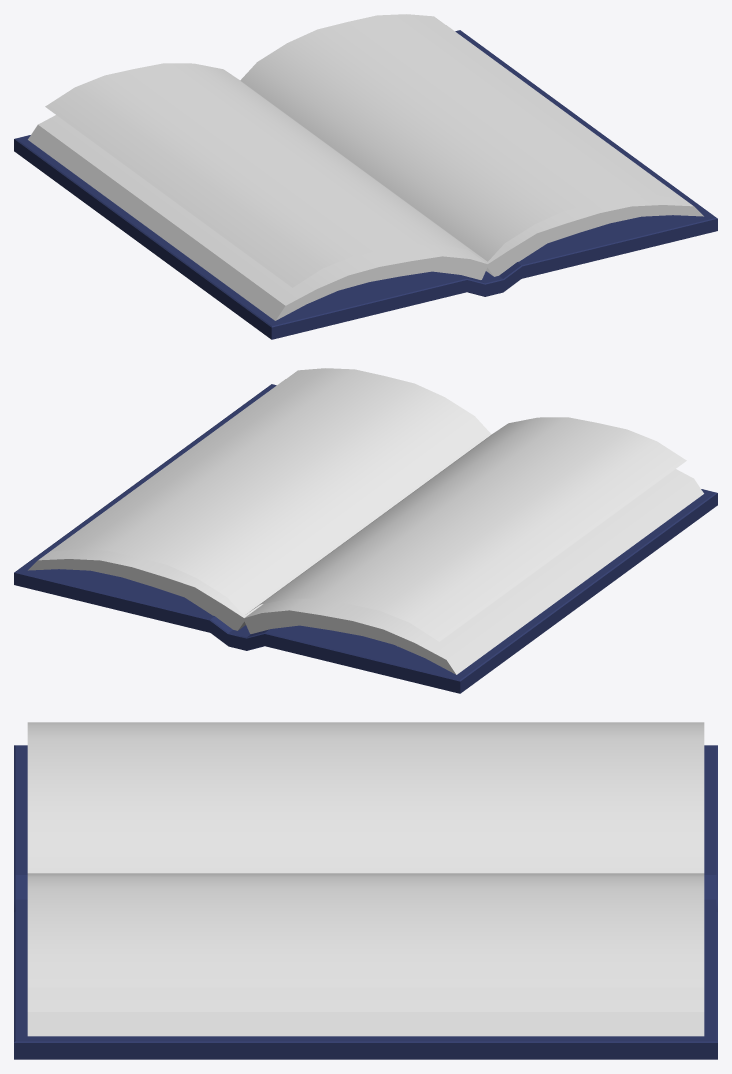
Rendered from livro_aberto.fbx.
3 views of the same model, one above another, from view 1: azimuth 30°, elevation 25°; view 2: azimuth 150°, elevation 25°; view 3: azimuth 270°, elevation 25° (orthographic). The views are drawn at different scales.
Parts seen in each view (by area): view 1: polySurface5, polySurface4, polySurface3, polySurface1; view 2: polySurface5, polySurface4, polySurface3, polySurface1; view 3: polySurface4, polySurface5, polySurface3, polySurface1.
Part boxes in pixels (left/top/right/bottom): polySurface5: left=240, top=14, right=680, bottom=261; polySurface4: left=45, top=63, right=484, bottom=287; polySurface3: left=28, top=25, right=703, bottom=320; polySurface1: left=14, top=30, right=717, bottom=339; polySurface5: left=51, top=368, right=491, bottom=615; polySurface4: left=247, top=417, right=686, bottom=641; polySurface3: left=28, top=379, right=703, bottom=674; polySurface1: left=14, top=384, right=717, bottom=693; polySurface4: left=27, top=722, right=704, bottom=873; polySurface5: left=27, top=873, right=704, bottom=987; polySurface3: left=27, top=987, right=704, bottom=1036; polySurface1: left=14, top=745, right=717, bottom=1059.
Size of the model in its own units: 17.69 by 2.59 by 17.69.
